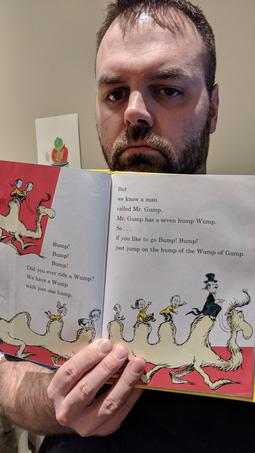text block: (110, 180, 248, 259), (21, 233, 100, 300)
